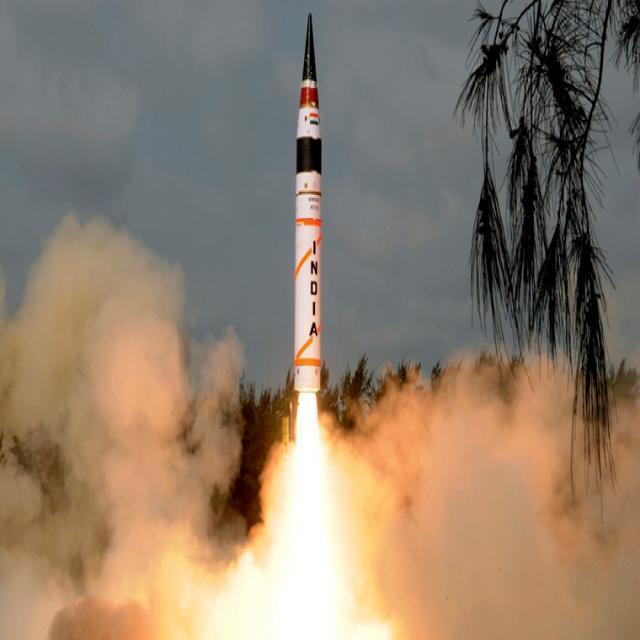missile: (290, 0, 329, 419)
